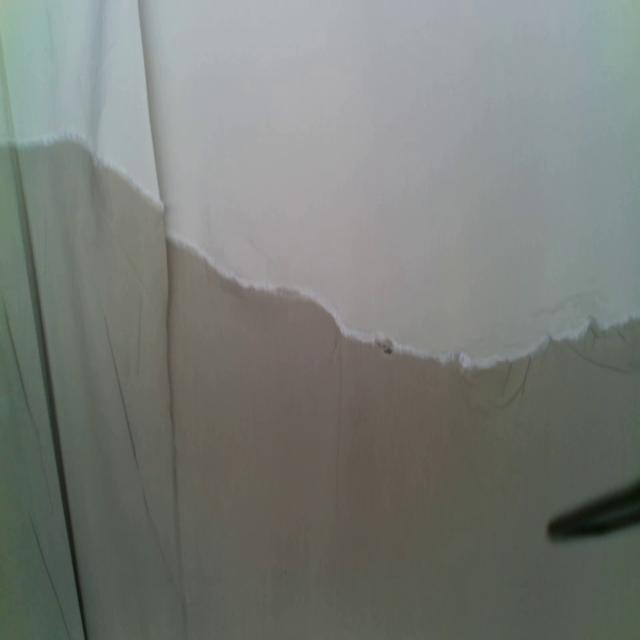crease: (104, 316, 138, 470), (29, 514, 68, 637), (3, 308, 37, 428)
hole: (378, 338, 394, 356)
